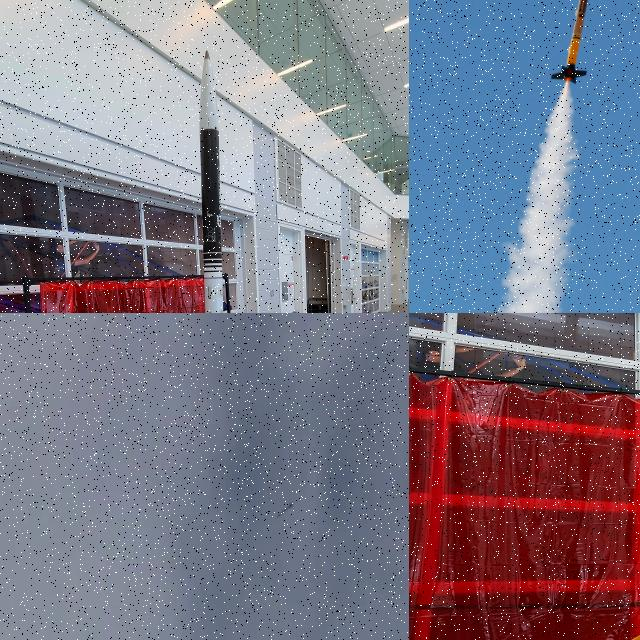Rocket: (199, 51, 223, 313), (549, 0, 599, 84), (275, 500, 294, 520)
